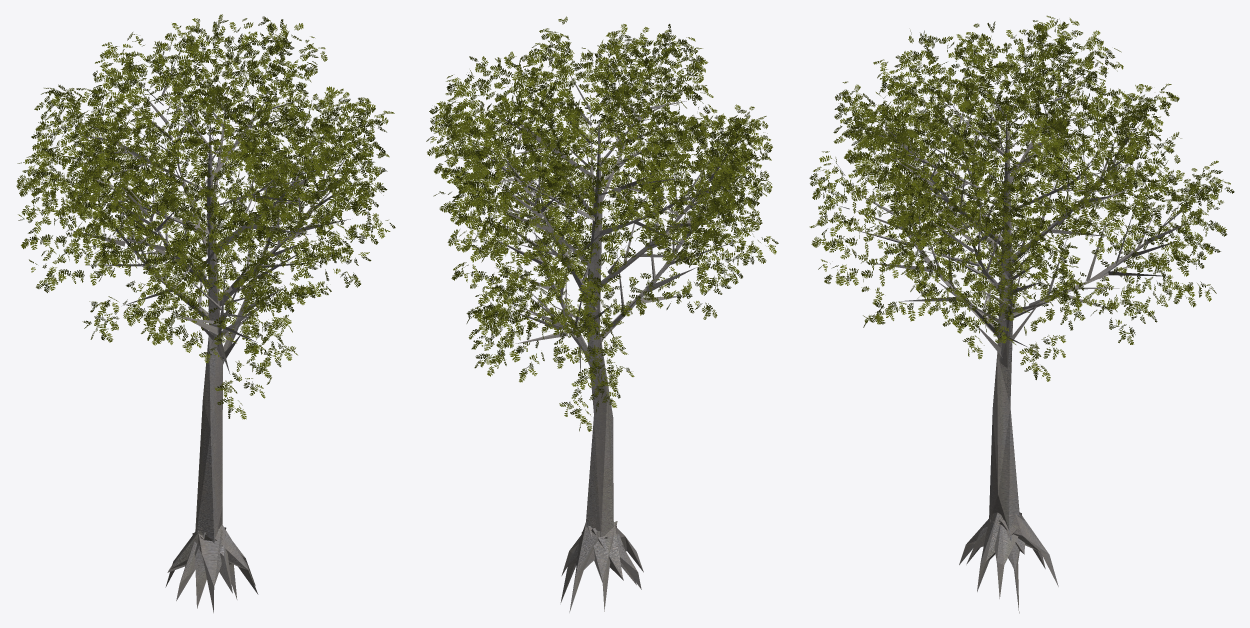
File: Tree_Ash_Large.obj
The picture shows the model from 3 angles, left to right: view 1: azimuth 30°, elevation 25°; view 2: azimuth 150°, elevation 25°; view 3: azimuth 270°, elevation 25°; orthographic projection. The views are drawn at different scales.
Parts seen in each view (by area): view 1: Tree_Ash_Large; view 2: Tree_Ash_Large; view 3: Tree_Ash_Large.
Part boxes in pixels (<box>): Tree_Ash_Large: <box>16,14,395,612</box>; Tree_Ash_Large: <box>426,16,778,612</box>; Tree_Ash_Large: <box>809,15,1234,613</box>.
Bounding box in the file's own units: 105 × 169 × 118.
